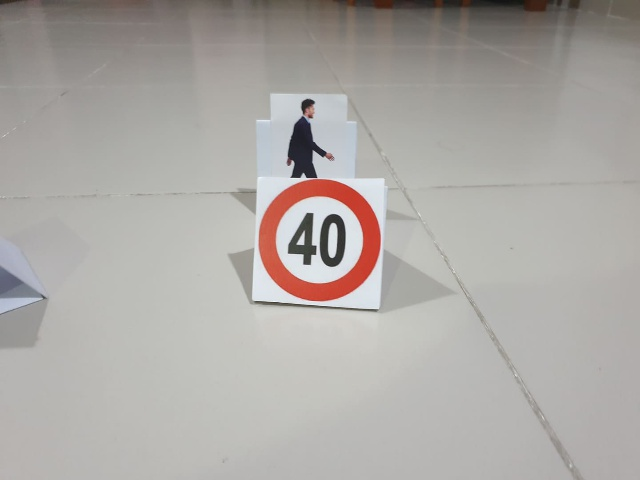Limit 40: (254, 182, 381, 306)
Person: (269, 91, 340, 177)
